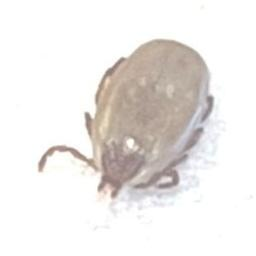Rhipicephalus sanguineus: (36, 38, 215, 200)
